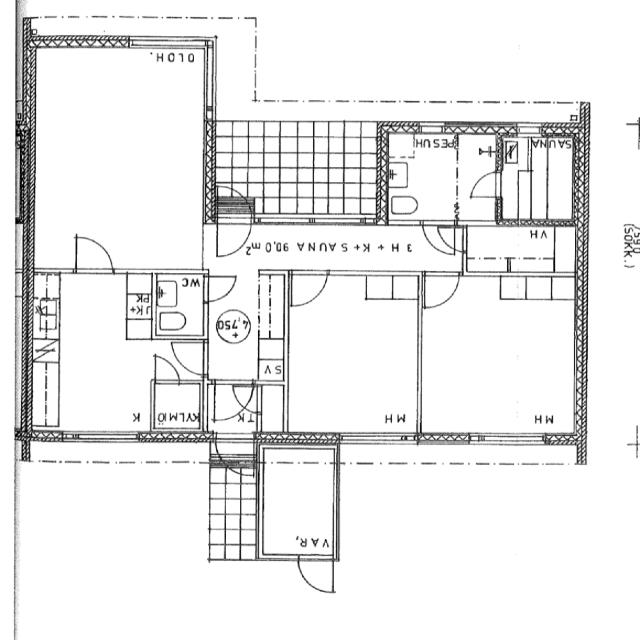door: (208, 378, 260, 423), (70, 232, 117, 274), (214, 215, 253, 259), (294, 556, 336, 596), (287, 270, 329, 308), (168, 338, 210, 376), (422, 270, 461, 309), (422, 222, 465, 257), (467, 169, 503, 201), (203, 273, 239, 304), (151, 353, 182, 386)
window: (338, 430, 418, 450), (471, 430, 550, 450), (200, 45, 221, 118), (211, 434, 257, 466), (128, 35, 208, 53), (71, 427, 141, 446), (417, 121, 447, 133)
zone: (32, 43, 210, 275), (418, 272, 580, 438), (284, 273, 424, 439), (27, 273, 154, 438), (205, 271, 287, 382), (259, 457, 338, 559), (500, 135, 579, 226), (386, 133, 460, 225), (154, 273, 208, 339), (152, 382, 203, 433)
